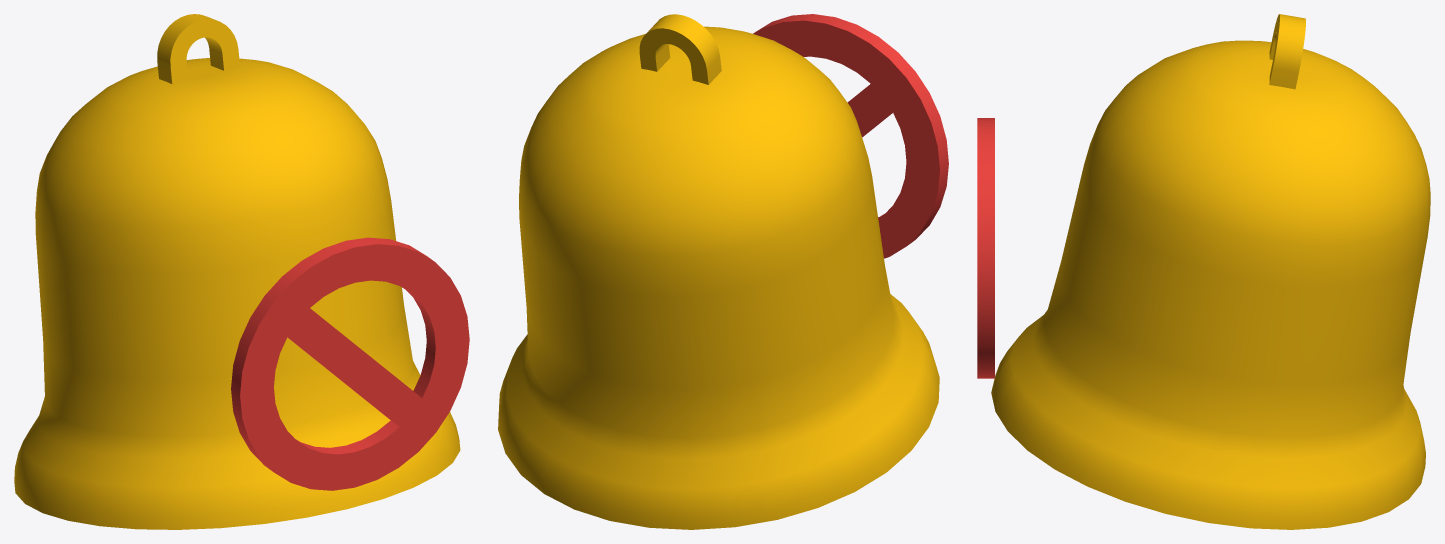
Rendered from bell_with_slash.glb.
3 renders of one model, left to right at view 1: azimuth 30°, elevation 25°; view 2: azimuth 150°, elevation 25°; view 3: azimuth 270°, elevation 25°, orthographic.
Visible parts, largest first — view 1: Cylinder.492; view 2: Cylinder.492; view 3: Cylinder.492.
Part boxes in pixels (bbox=[...]): Cylinder.492: bbox=[14, 14, 469, 529]; Cylinder.492: bbox=[498, 14, 948, 529]; Cylinder.492: bbox=[977, 14, 1430, 529].
Size of the model in its own units: 1.79 by 2.01 by 1.84.
1 material, 1 textured.
